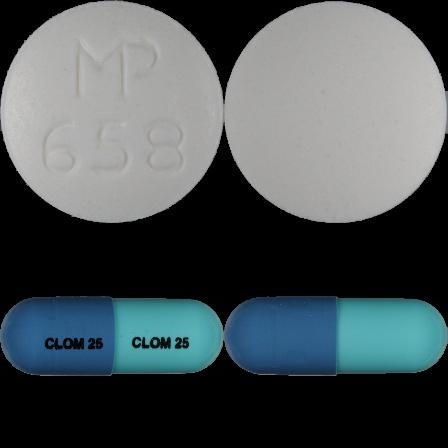63629-2753: (0, 0, 224, 224)
